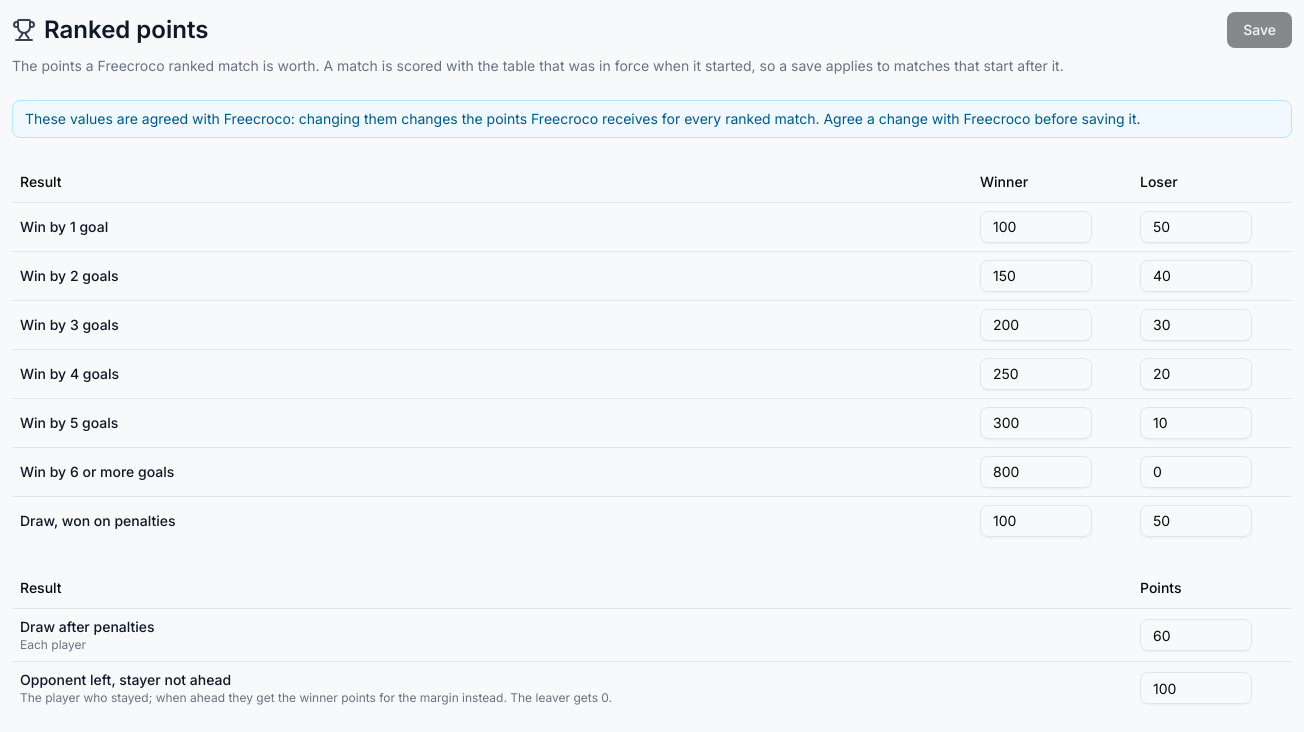
Test case: keeps the draft when a refused save is followed by a failed reload, and recovers on refresh
The width and height of the screenshot is (1304, 732).
Expected: the text "Win by 6 or more goals" is shown, [12, 447, 972, 496]
Replace the text in the number field named "Win by 4 goals winner" with "260": (1036, 374) [980, 358, 1092, 390]
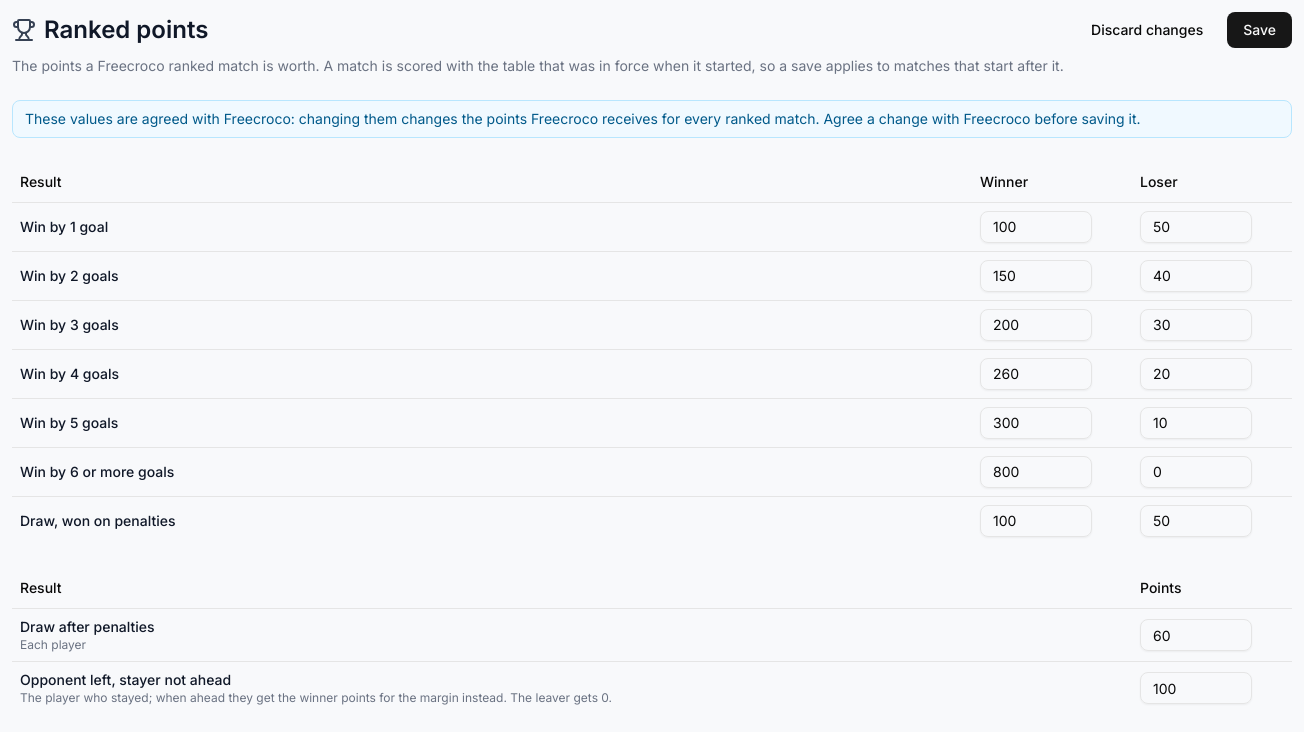
Click the button "Save": click(1260, 30) [1227, 12, 1292, 48]
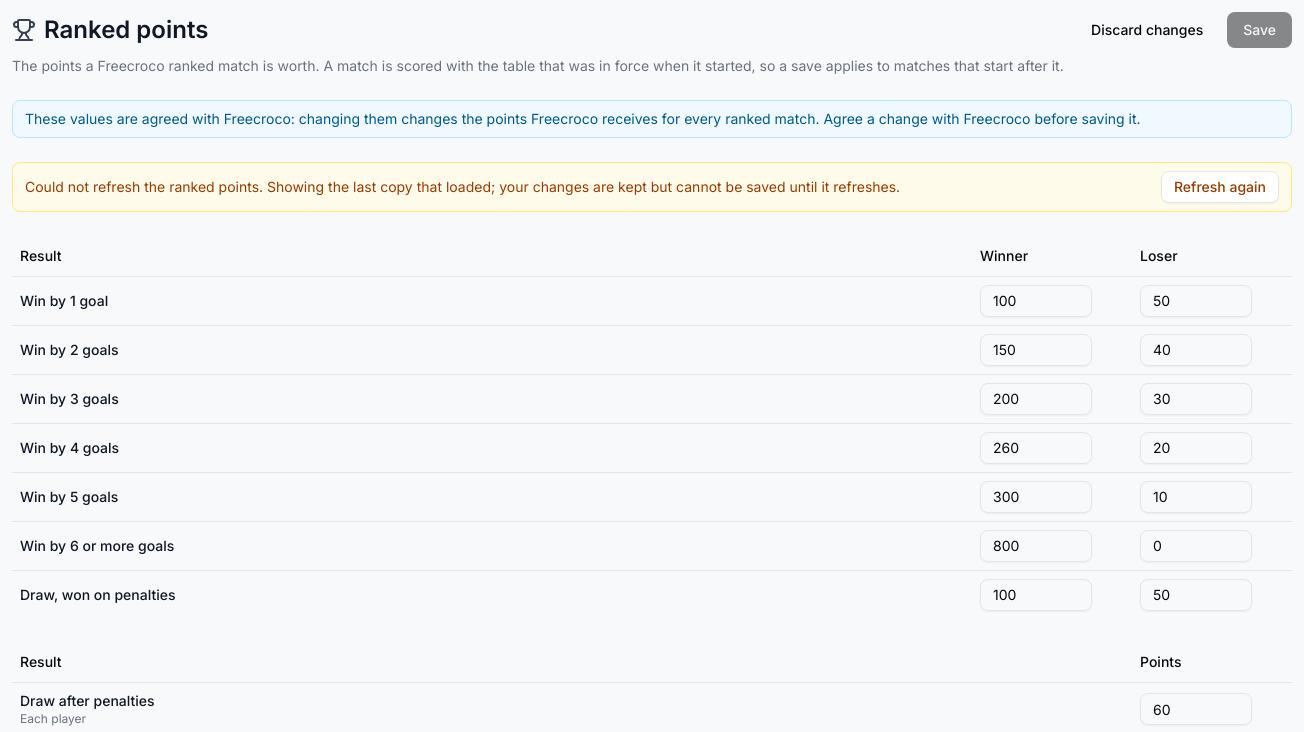
Result: the button "Save" is disabled at [1227, 12, 1292, 48]
Click the button "Refresh again": click(1220, 187) [1161, 171, 1279, 203]
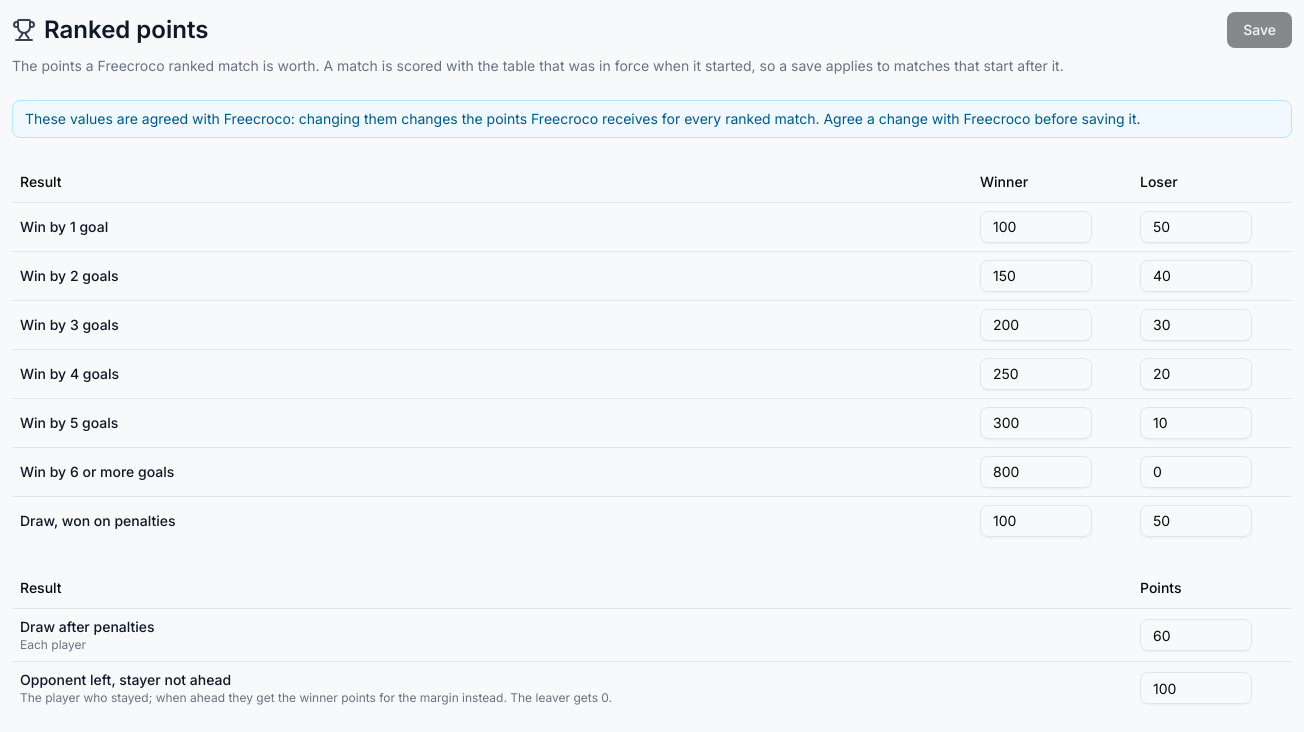
Result: the text "Could not refresh the ranked points" is gone
